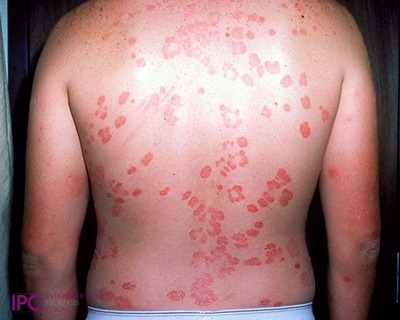Psoriasis: (191, 236, 230, 266), (216, 99, 247, 135), (212, 151, 252, 175), (192, 269, 216, 305), (204, 207, 228, 238), (262, 240, 284, 270), (105, 292, 138, 312), (216, 63, 241, 89), (164, 92, 182, 125), (162, 31, 180, 64), (285, 232, 306, 260), (267, 166, 292, 189), (276, 184, 296, 208), (295, 267, 315, 291), (162, 286, 188, 304), (226, 39, 248, 60), (201, 54, 220, 78), (227, 182, 249, 202), (117, 86, 136, 108), (108, 193, 126, 216), (97, 122, 113, 147), (263, 56, 283, 76), (238, 255, 261, 272), (257, 189, 276, 209), (299, 119, 314, 144), (230, 230, 247, 251), (122, 277, 142, 294), (98, 283, 116, 301), (320, 104, 334, 126), (140, 150, 157, 168), (278, 72, 295, 90), (299, 93, 316, 110), (199, 163, 213, 183), (95, 90, 110, 108), (237, 133, 252, 150), (208, 11, 222, 29), (298, 70, 310, 91), (326, 162, 339, 181), (115, 115, 129, 132), (231, 25, 245, 42), (158, 183, 172, 199), (245, 226, 261, 240), (228, 11, 246, 23), (186, 195, 201, 209), (249, 52, 261, 69), (242, 70, 254, 87), (133, 181, 144, 199), (126, 164, 139, 178), (178, 187, 191, 201), (255, 64, 268, 78), (242, 29, 257, 41), (246, 201, 259, 214), (259, 105, 271, 119), (136, 57, 150, 69), (253, 217, 263, 233), (282, 102, 292, 117), (99, 110, 110, 120), (248, 13, 258, 24)
